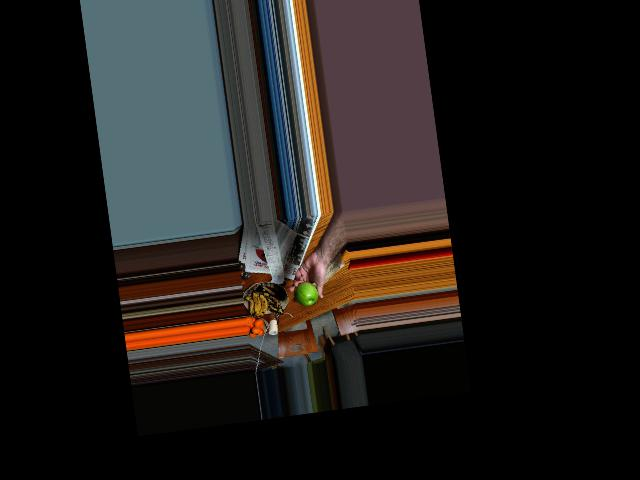apple: (293, 281, 319, 308)
